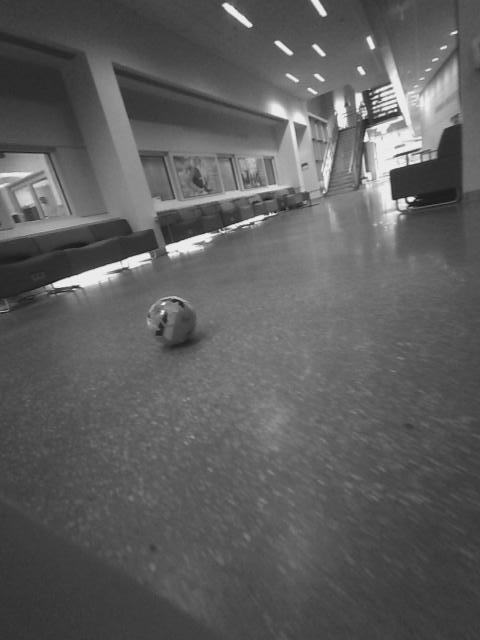ball: (142, 292, 200, 351)
